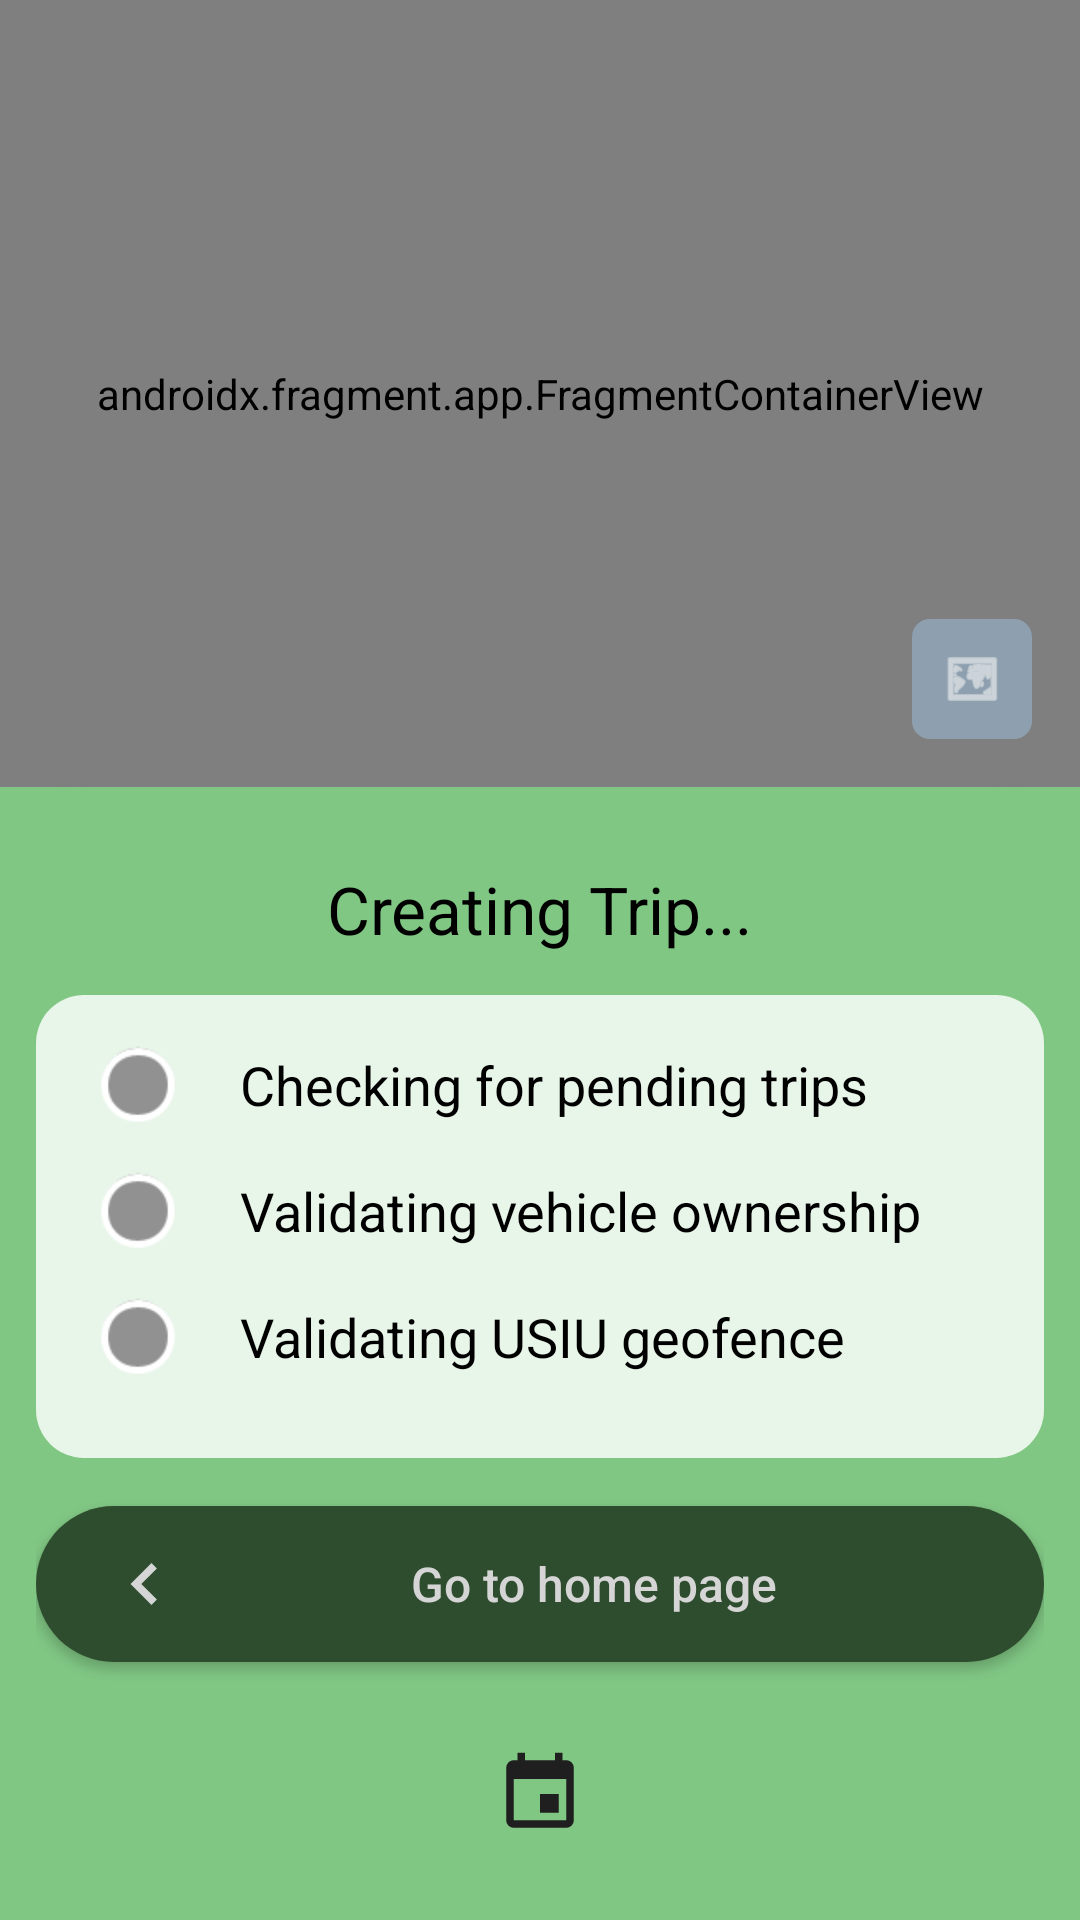

Where to tap for icons on this 1080x1920 app screen, as [x,y]:
Calendar: [540,1790]
Map layers: [972,679]
